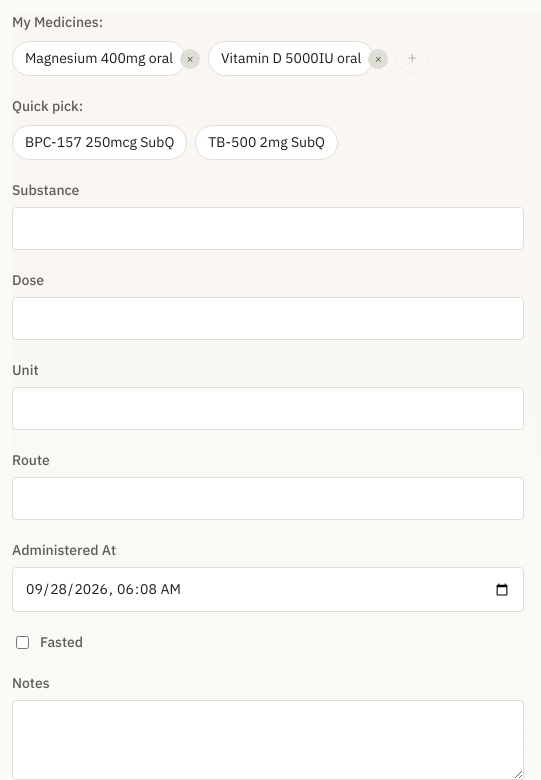
Test: InterventionForm › clicking a saved medicine chip pre-fills form
Click the button "Magnesium 400mg oral" at (99, 58), box x1=12 y1=41 x2=186 y2=76
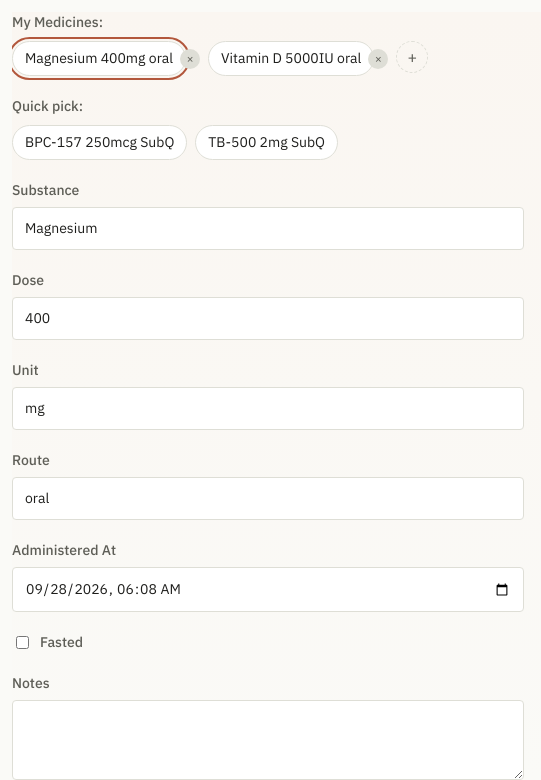
Expected: the field labelled "Substance" holds "Magnesium", x1=12 y1=207 x2=524 y2=250
Expected: the number field labelled "Dose" holds "400", x1=12 y1=297 x2=524 y2=340
Expected: the field labelled "Unit" holds "mg", x1=12 y1=387 x2=524 y2=430
